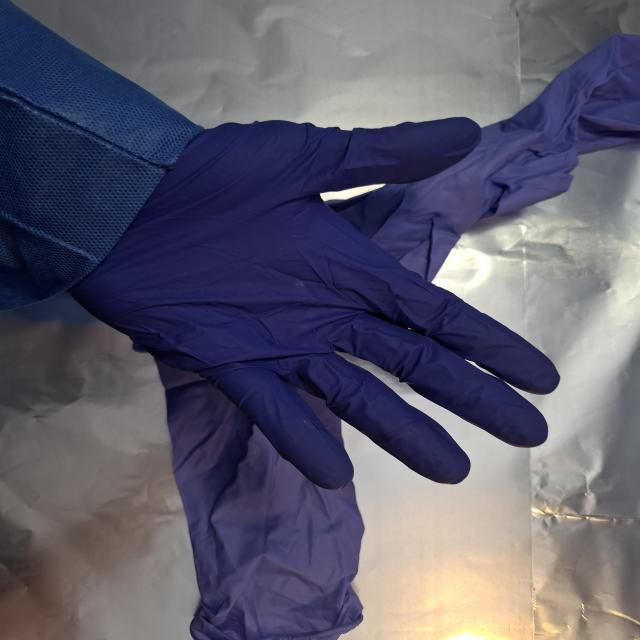glove_on: (67, 115, 565, 493)
